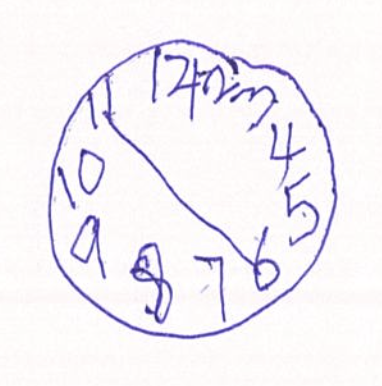10: (54, 147, 107, 210)
11: (86, 74, 116, 129)
12: (150, 48, 199, 103)
3: (227, 85, 284, 131)
4: (267, 121, 307, 189)
5: (284, 171, 319, 245)
6: (251, 226, 281, 291)
7: (191, 252, 229, 327)
8: (130, 240, 174, 326)
9: (67, 215, 108, 281)
contour: (42, 38, 341, 342)
